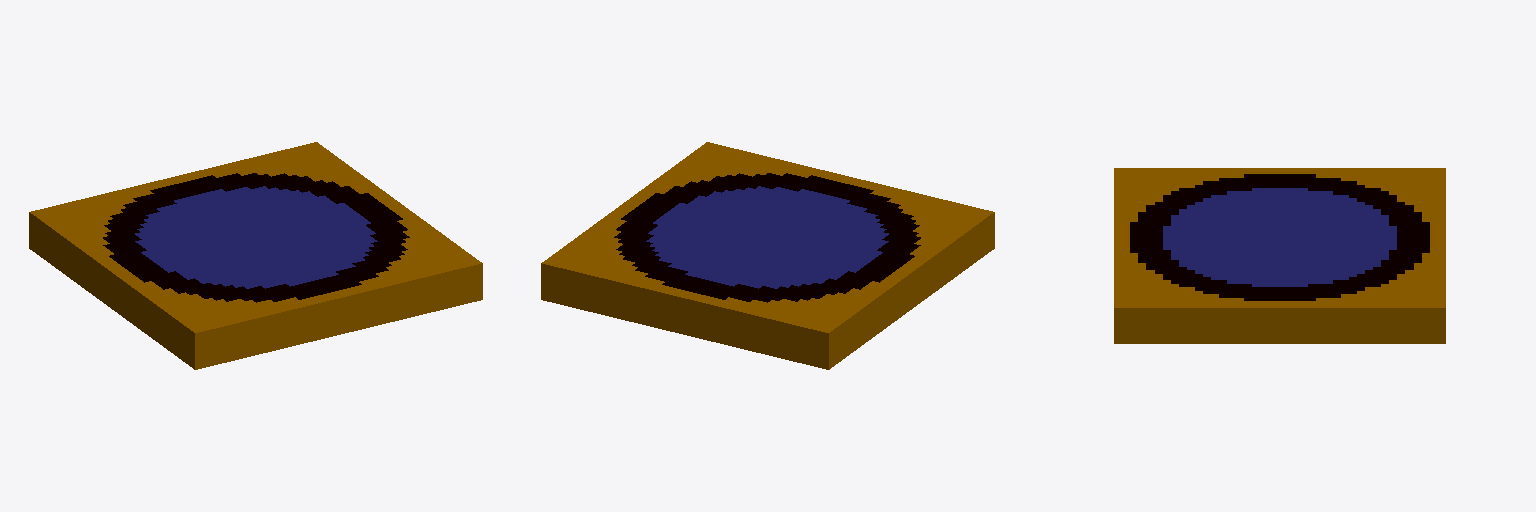
The picture shows the model from 3 angles: view 1: azimuth 30°, elevation 25°; view 2: azimuth 150°, elevation 25°; view 3: azimuth 270°, elevation 25°; orthographic projection.
Visible parts, largest first — view 1: tpout; view 2: tpout; view 3: tpout.
Part boxes in pixels (x1,y1,x2,y2): tpout: (29, 142, 482, 369); tpout: (541, 142, 994, 369); tpout: (1114, 168, 1445, 343).
Bounding box in the file's own units: 41 × 5 × 41.
Materials: 1 (1 with a texture image).